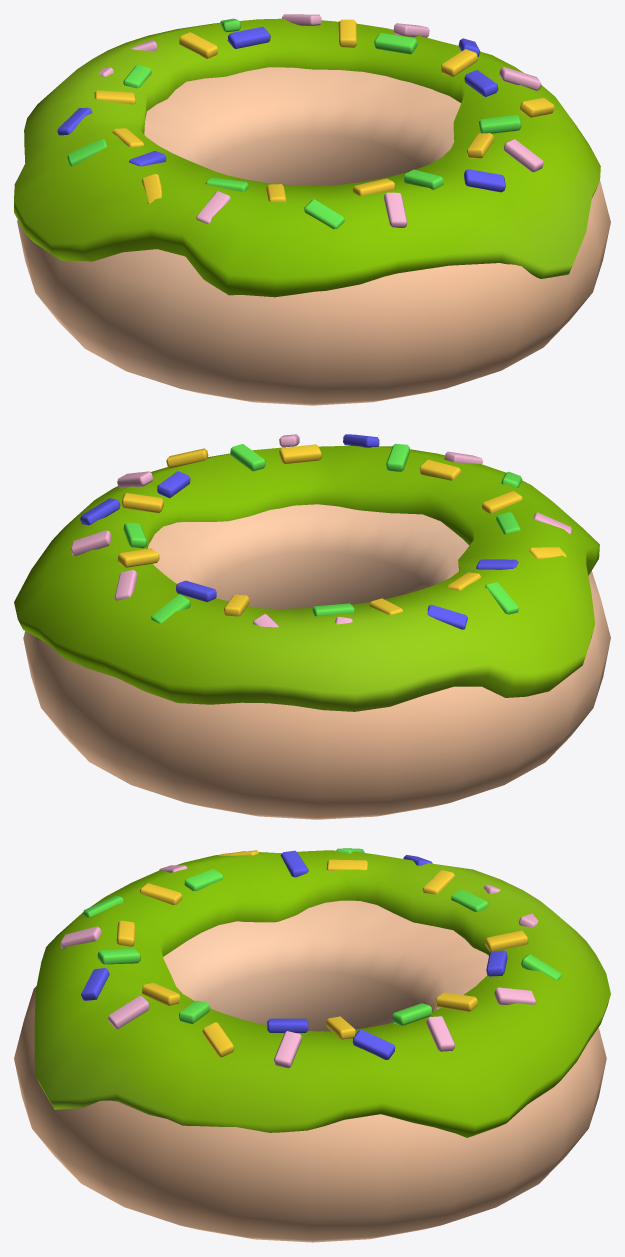
The model's file is Donut_green.fbx.
The picture shows the model from 3 angles, top to bottom: view 1: azimuth 30°, elevation 25°; view 2: azimuth 150°, elevation 25°; view 3: azimuth 270°, elevation 25°; orthographic projection.
Visible parts, largest first — view 1: Donut_green; view 2: Donut_green; view 3: Donut_green.
Boxes of the visible parts, <box> form: Donut_green: <box>14,14,610,405</box>; Donut_green: <box>14,434,610,819</box>; Donut_green: <box>14,848,610,1242</box>.
Size of the model in its own units: 11.76 by 4.36 by 11.59.
